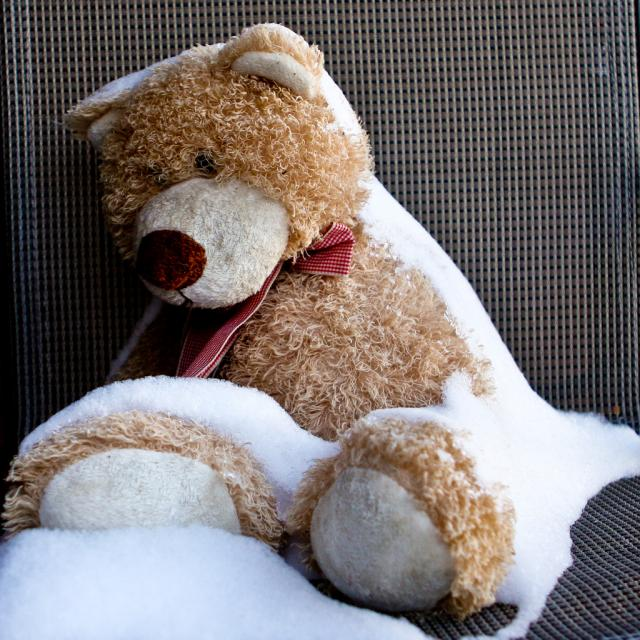Bear: (0, 23, 518, 622)
